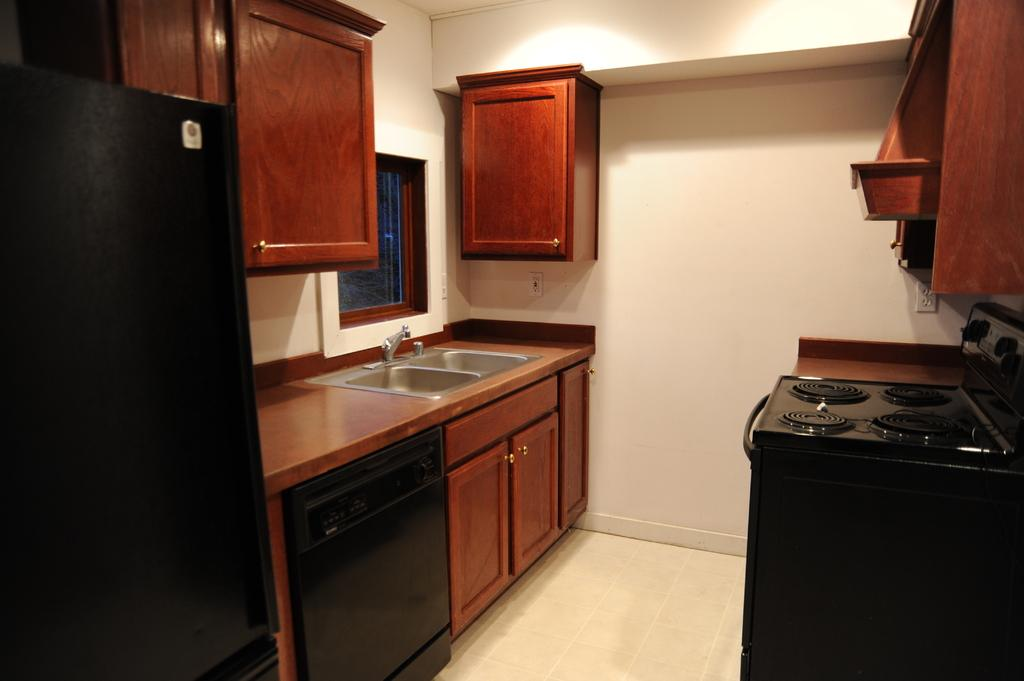cabinet_door: (236, 15, 378, 256), (460, 90, 570, 256), (457, 446, 513, 606), (508, 433, 550, 546), (556, 370, 584, 512)
handle: (244, 236, 267, 256), (500, 449, 520, 472), (518, 437, 534, 461), (546, 231, 564, 250)
